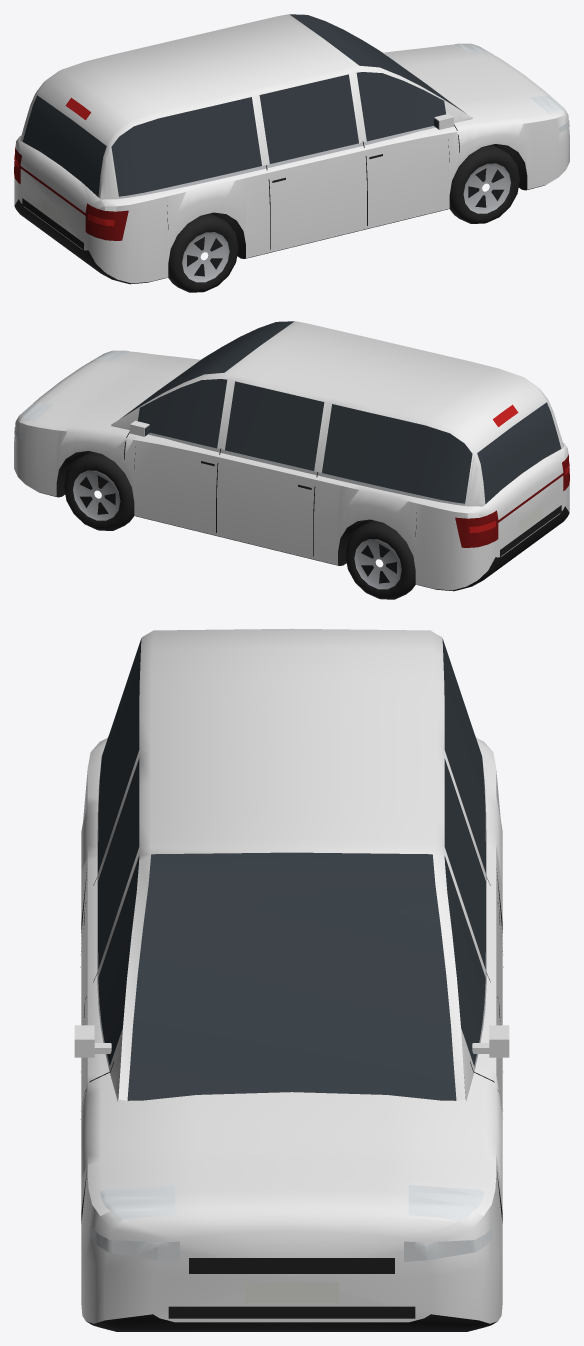
The model's file is kiln_suv.glb.
The picture shows the model from 3 angles, top to bottom: view 1: azimuth 30°, elevation 25°; view 2: azimuth 150°, elevation 25°; view 3: azimuth 270°, elevation 25°; orthographic projection. The views are drawn at different scales.
Visible parts, largest first — view 1: Mesh_Paint_L0, Mesh_Glass_L0, Mesh_Tyre_FL, Mesh_Trim_L0, Mesh_Rim_FL, Mesh_Taillight_L0, Mesh_Chrome_L0, Mesh_Headlight_L0, Mesh_BrakeLight_L0; view 2: Mesh_Paint_L0, Mesh_Glass_L0, Mesh_Tyre_FL, Mesh_Trim_L0, Mesh_Rim_FL, Mesh_Taillight_L0, Mesh_Chrome_L0, Mesh_Headlight_L0, Mesh_BrakeLight_L0; view 3: Mesh_Paint_L0, Mesh_Glass_L0, Mesh_Trim_L0, Mesh_Headlight_L0, Mesh_Plate_L0, Mesh_Chrome_L0.
Boxes of the visible parts, <box> form: Mesh_Paint_L0: <box>14,14,569,283</box>; Mesh_Glass_L0: <box>22,14,465,197</box>; Mesh_Tyre_FL: <box>168,145,519,292</box>; Mesh_Trim_L0: <box>14,124,545,284</box>; Mesh_Rim_FL: <box>182,163,510,282</box>; Mesh_Taillight_L0: <box>14,146,128,240</box>; Mesh_Chrome_L0: <box>119,125,435,198</box>; Mesh_Headlight_L0: <box>454,43,569,132</box>; Mesh_BrakeLight_L0: <box>14,97,114,226</box>; Mesh_Paint_L0: <box>14,321,569,590</box>; Mesh_Glass_L0: <box>120,321,561,504</box>; Mesh_Tyre_FL: <box>64,452,415,599</box>; Mesh_Trim_L0: <box>38,431,569,591</box>; Mesh_Rim_FL: <box>73,470,401,589</box>; Mesh_Taillight_L0: <box>455,454,569,547</box>; Mesh_Chrome_L0: <box>148,432,464,505</box>; Mesh_Headlight_L0: <box>14,350,129,439</box>; Mesh_BrakeLight_L0: <box>469,404,569,533</box>; Mesh_Paint_L0: <box>74,628,509,1323</box>; Mesh_Glass_L0: <box>98,639,485,1100</box>; Mesh_Trim_L0: <box>80,869,503,1331</box>; Mesh_Headlight_L0: <box>90,1185,493,1261</box>; Mesh_Plate_L0: <box>245,1282,338,1302</box>; Mesh_Chrome_L0: <box>97,759,486,1069</box>.
Size of the model in its own units: 4.9 by 1.76 by 1.94.
